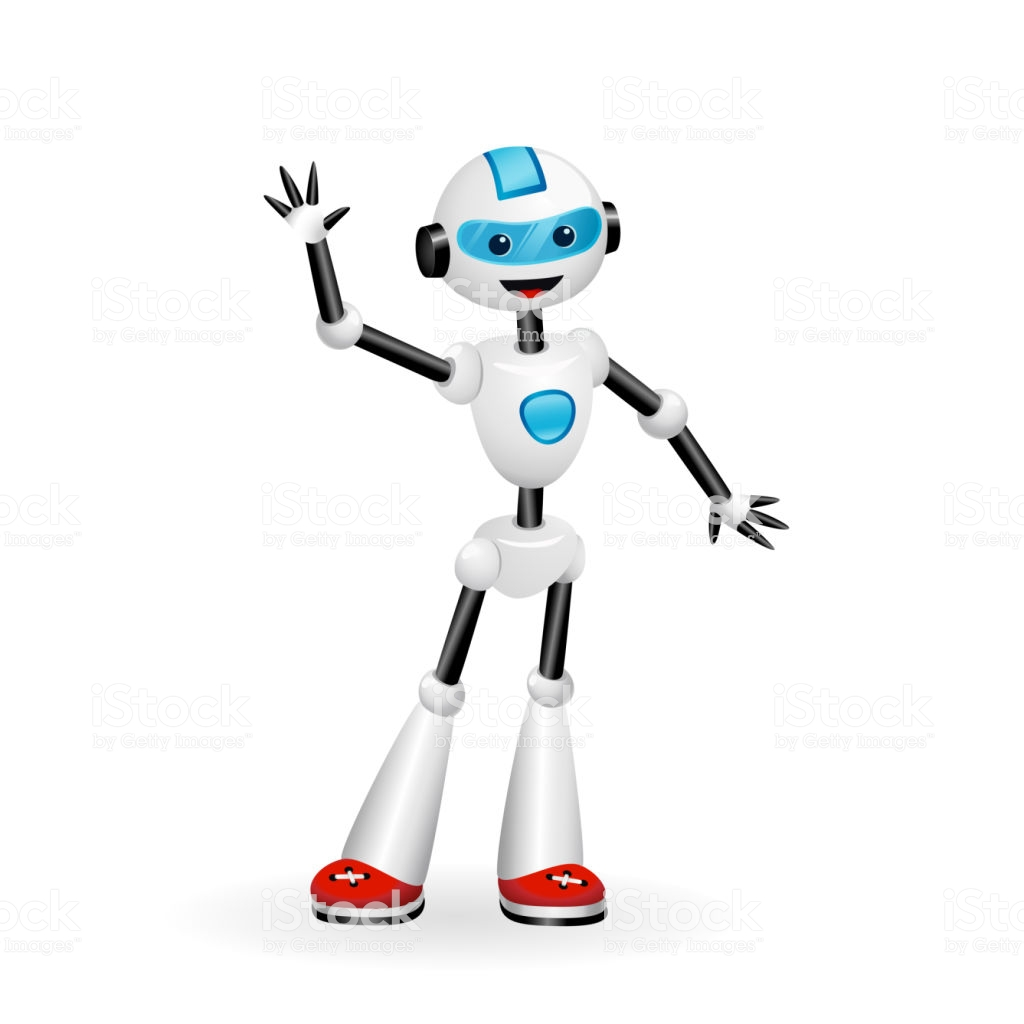person-like: (258, 139, 793, 940)
